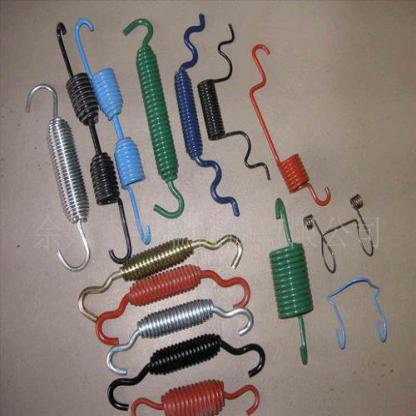FOD: (56, 18, 136, 264), (74, 16, 155, 245), (72, 231, 244, 322), (248, 41, 334, 209), (94, 261, 252, 347), (23, 83, 94, 273), (107, 330, 266, 413), (197, 19, 274, 181), (269, 192, 314, 370), (302, 192, 374, 274), (127, 377, 262, 415)
